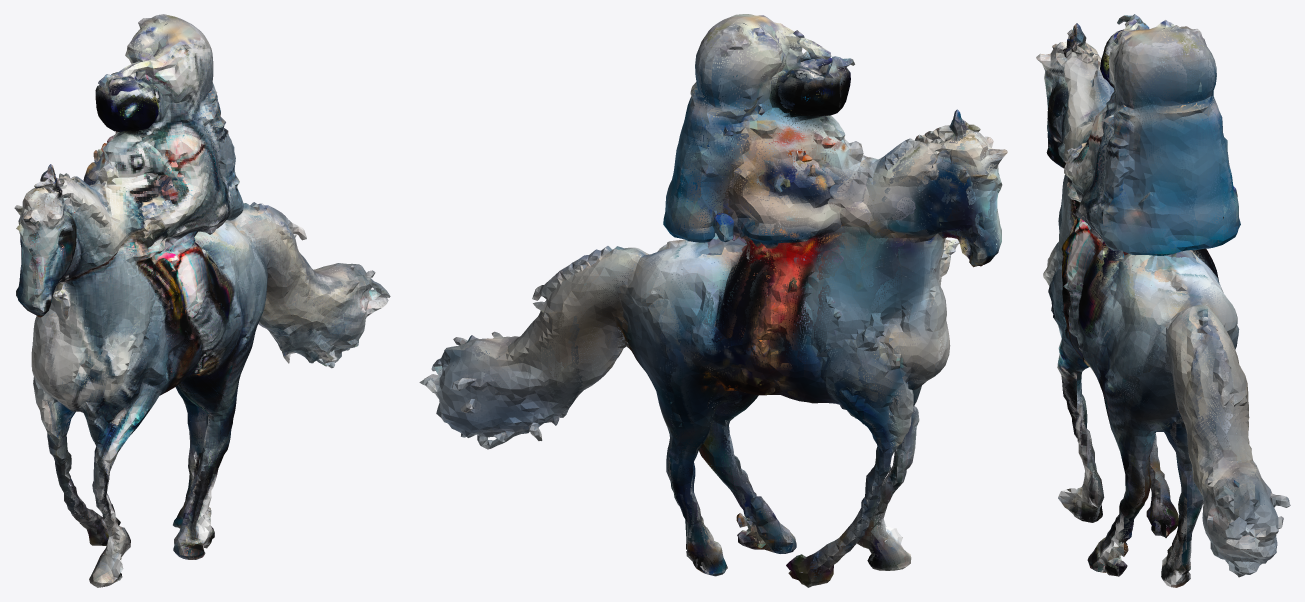
File: astronaut_011.glb
The picture shows the model from 3 angles, left to right: view 1: azimuth 30°, elevation 25°; view 2: azimuth 150°, elevation 25°; view 3: azimuth 270°, elevation 25°; orthographic projection. The views are drawn at different scales.
Bounding box in the file's own units: 1.25 × 1.36 × 0.5758.
1 material, 1 textured.
